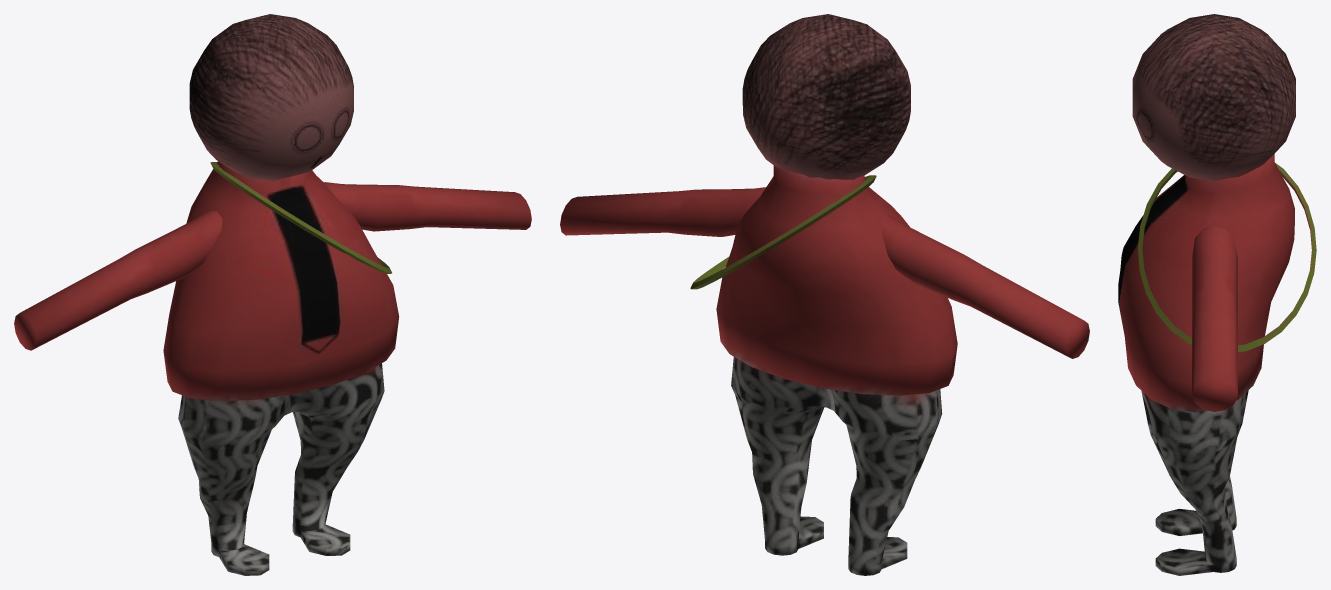
Rendered from Character enemy ready.fbx.
3 views of the same model, side by side, from view 1: azimuth 30°, elevation 25°; view 2: azimuth 150°, elevation 25°; view 3: azimuth 270°, elevation 25° (orthographic). The views are drawn at different scales.
Parts seen in each view (by area): view 1: Cylinder001; view 2: Cylinder001; view 3: Cylinder001.
Part boxes in pixels (left/top/right/bottom): Cylinder001: left=14, top=14, right=531, bottom=575; Cylinder001: left=560, top=14, right=1089, bottom=575; Cylinder001: left=1118, top=14, right=1316, bottom=575.
Bounding box in the file's own units: 71.96 × 24.87 × 72.39.
Materials: 1 (1 with a texture image).
